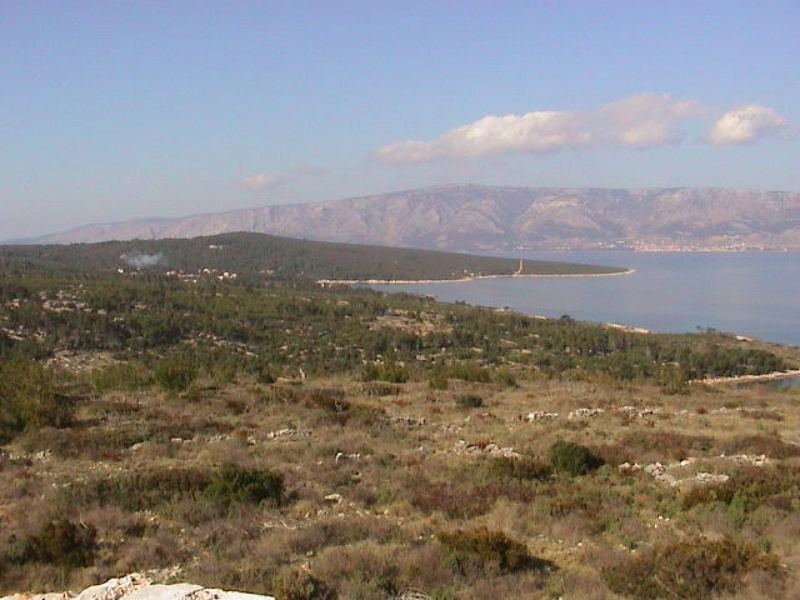smoke: (127, 253, 167, 271)
